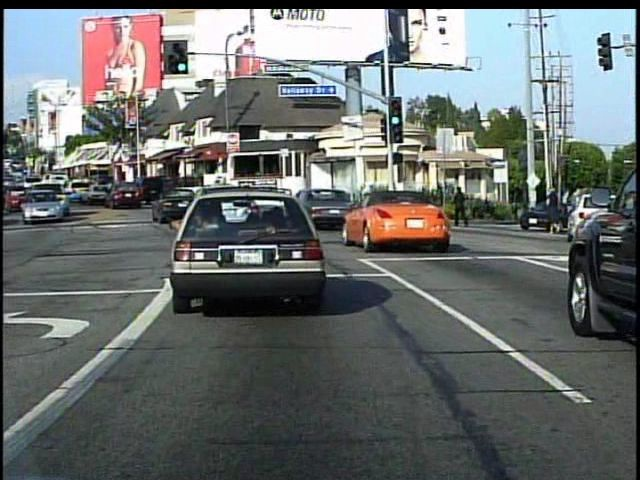person: (542, 181, 565, 238), (451, 183, 471, 230)
